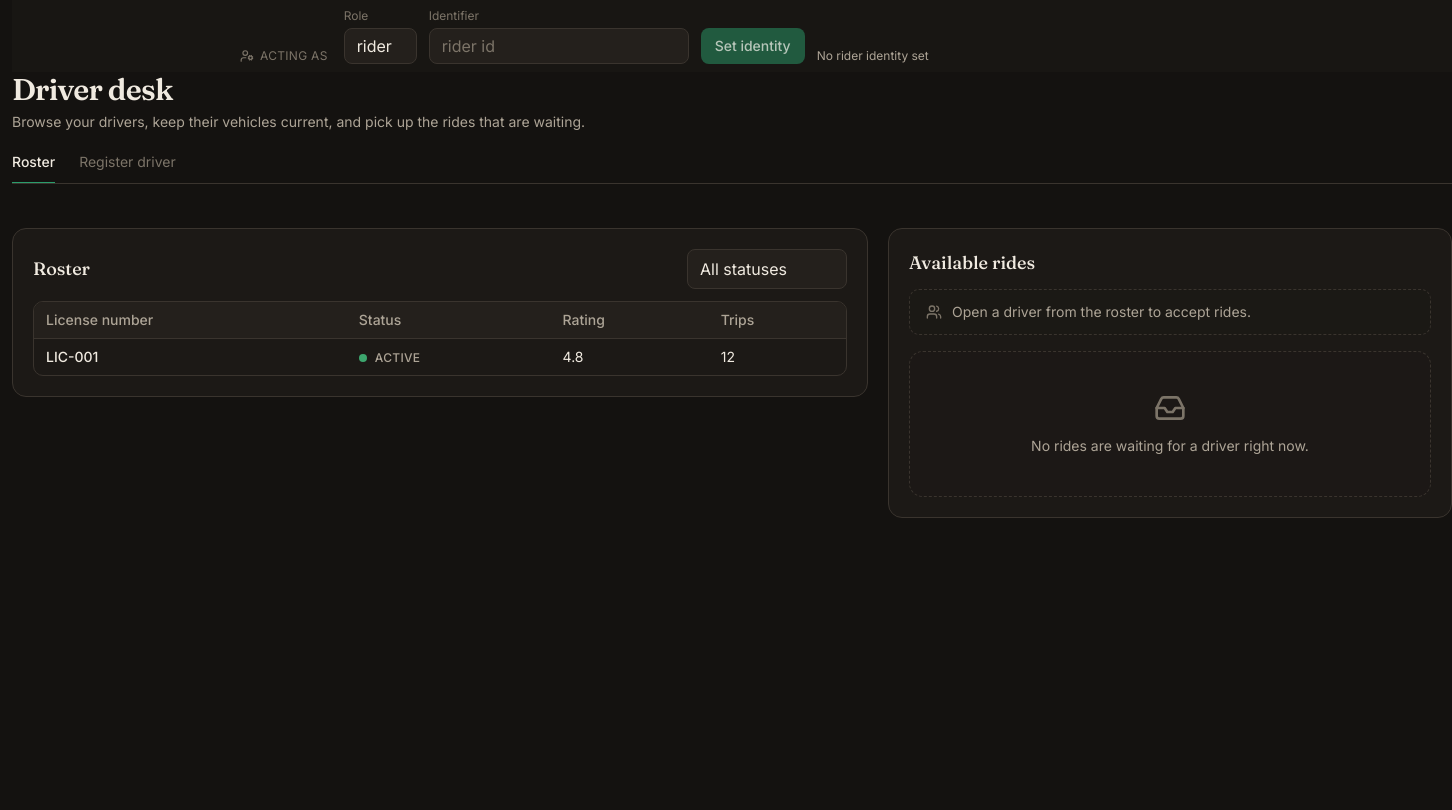
Feature: ridenow-frontend, driver roster › lists drivers in the roster and opens a selected row's detail
The image size is (1452, 810).
Expected: the text "LIC-001" is shown, x1=34 y1=338 x2=347 y2=375
Opening the row fetches and shows that driver's detail.
Click the button with aria-label "Open driver LIC-001": (72, 356) x1=34 y1=338 x2=846 y2=375
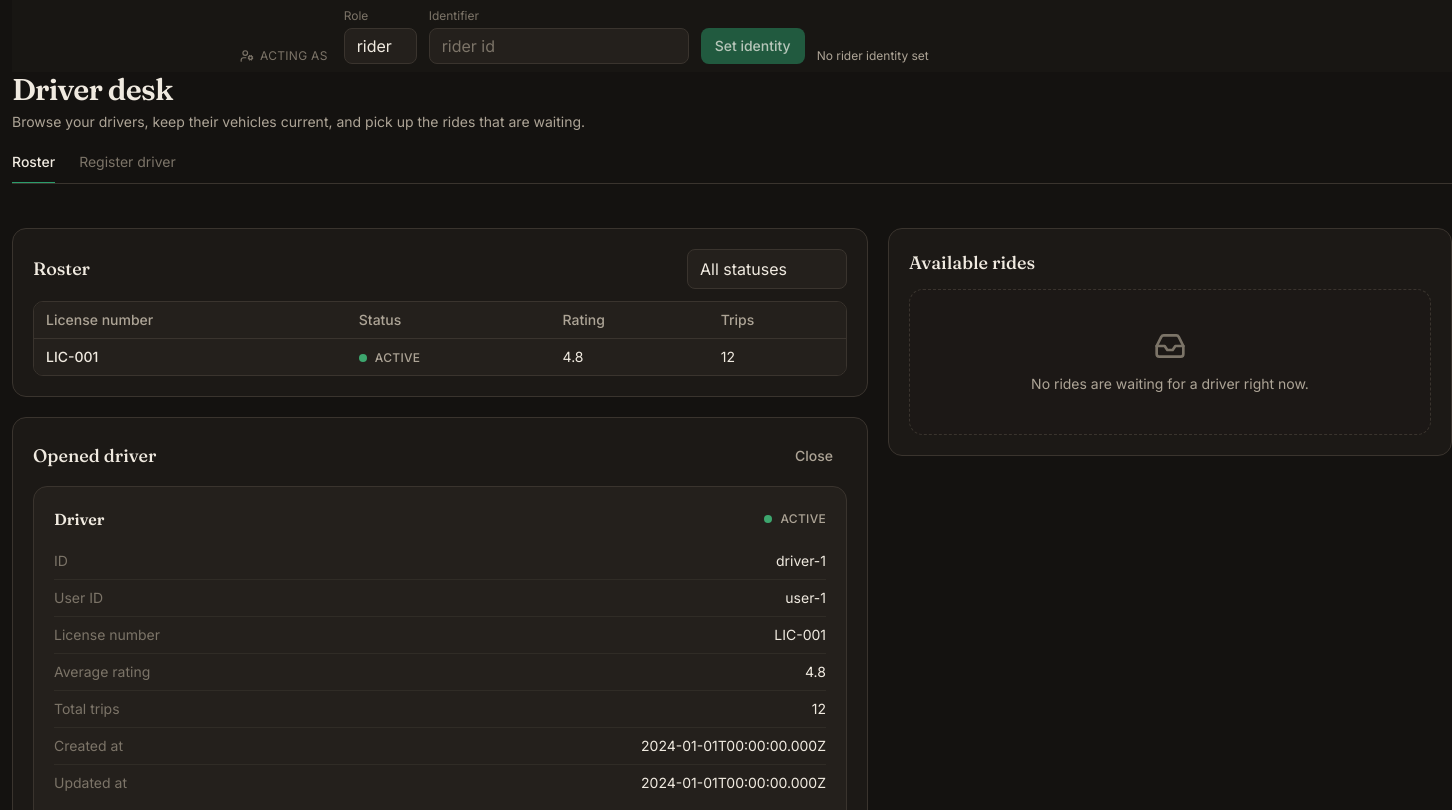
Expected: the heading "Driver" is shown, x1=54 y1=507 x2=104 y2=531
Expected: the text "user-1" is shown, x1=785 y1=588 x2=826 y2=608
